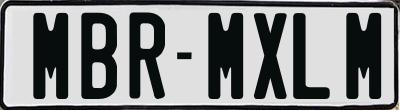B: (81, 12, 121, 99)
L: (290, 13, 330, 101)
M: (30, 12, 70, 104), (207, 10, 244, 98), (345, 11, 380, 101)
R: (128, 9, 167, 96)
X: (251, 13, 288, 104)
